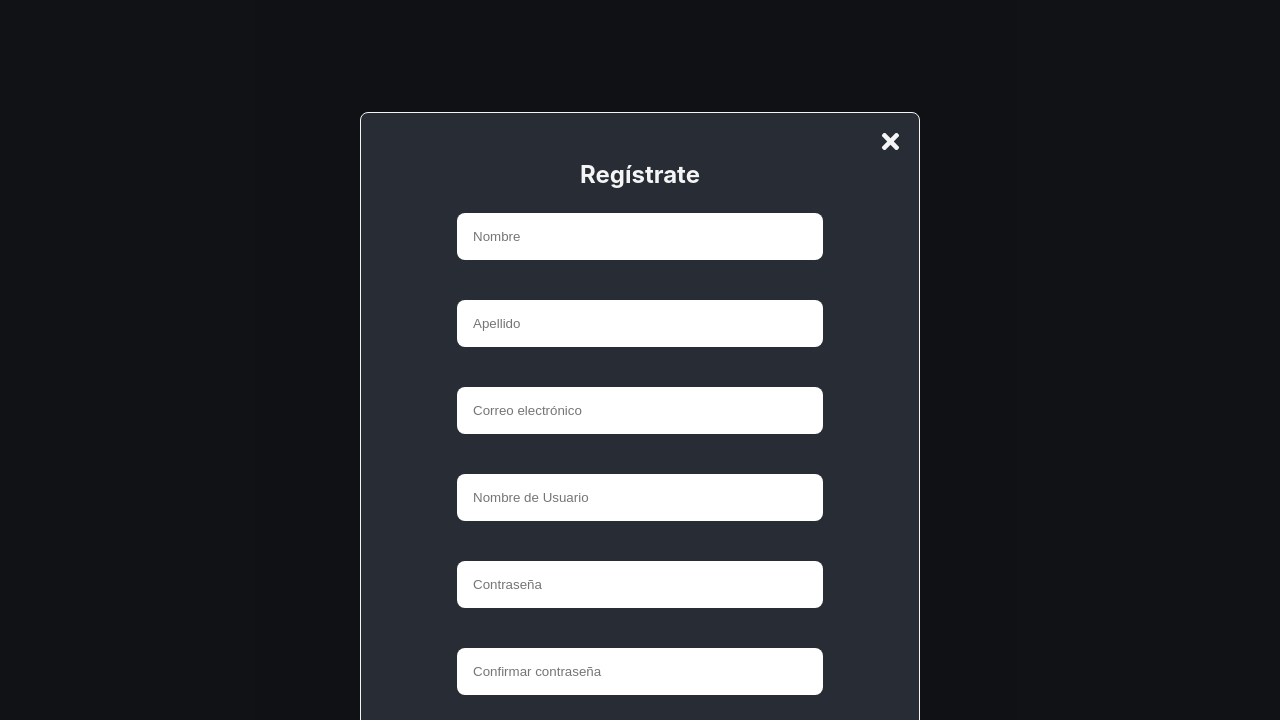
Scenario: err message - passwords and confirmPassword are different
This screenshot has width=1280, height=720.
Type "abcd" into the password field with test id "password" at (640, 584), box [457,561,823,608]
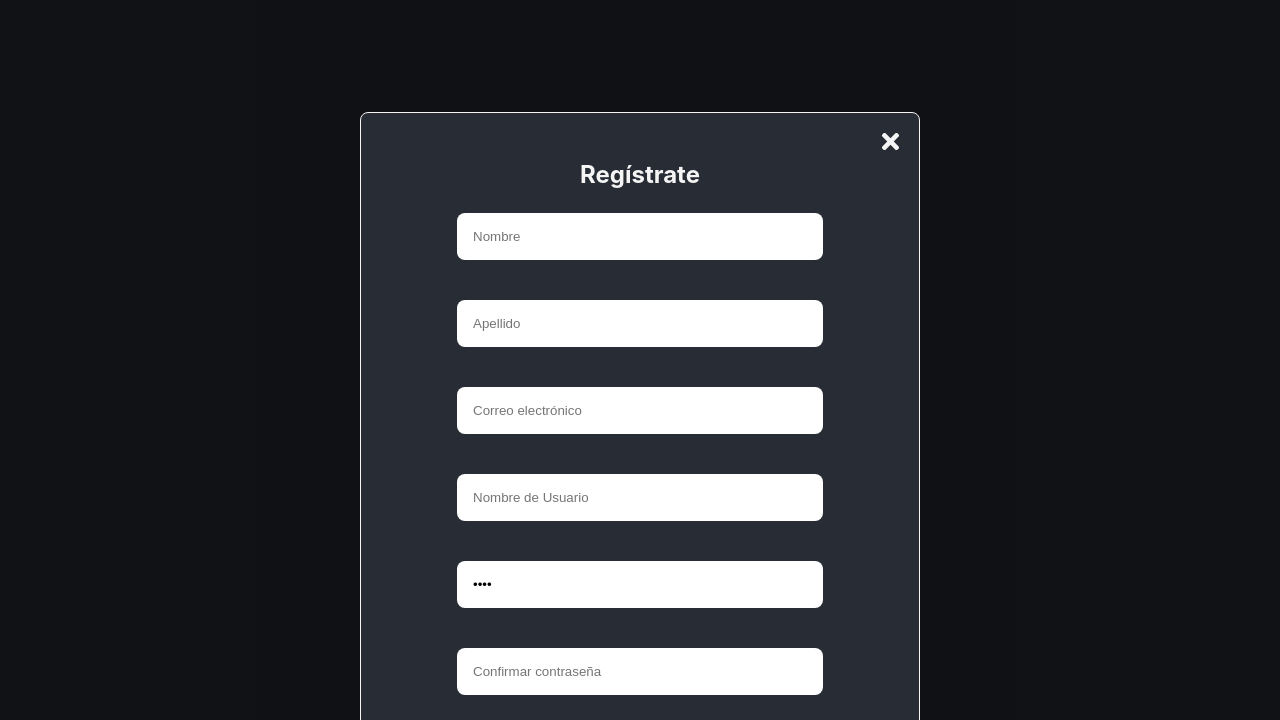
Type "dcba" into the password field with test id "confirmPassword" at (640, 672), box [457,648,823,695]
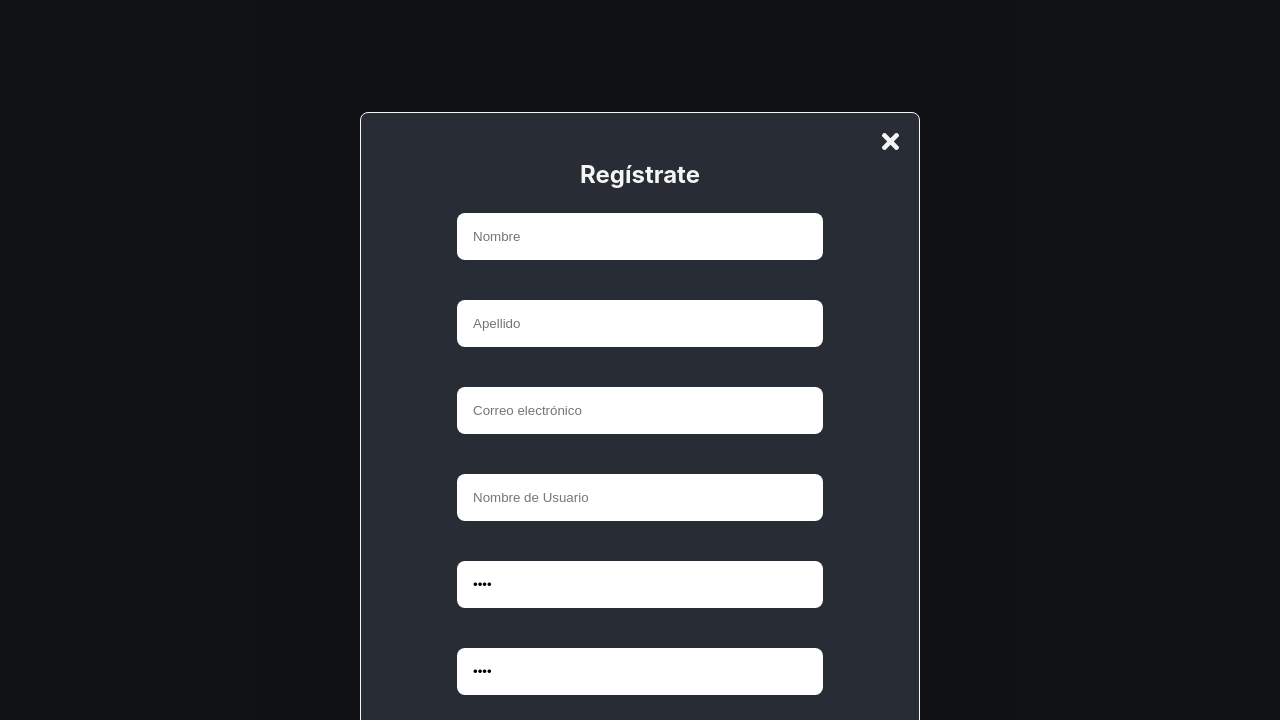
Leave the password field with test id "confirmPassword", box [457,648,823,695]
(page scrolled)
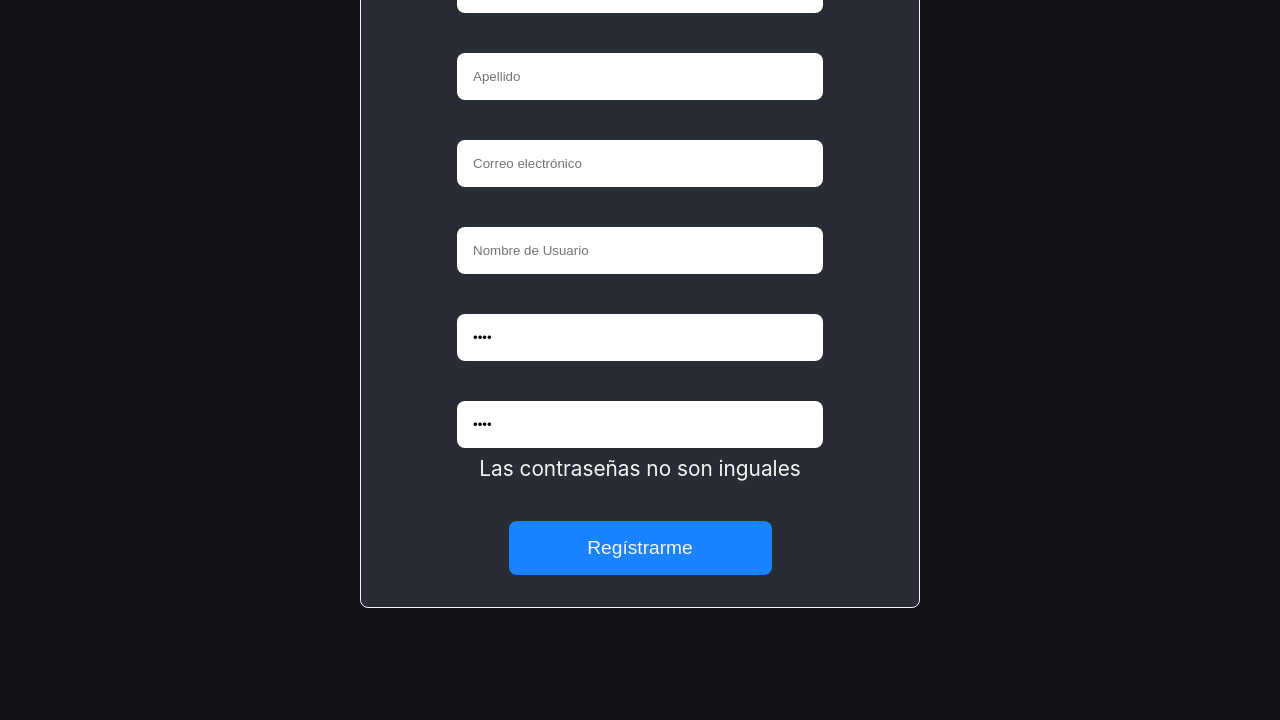
Expected: the text "Las contraseñas no son inguales" is shown, [465,456,815,481]
